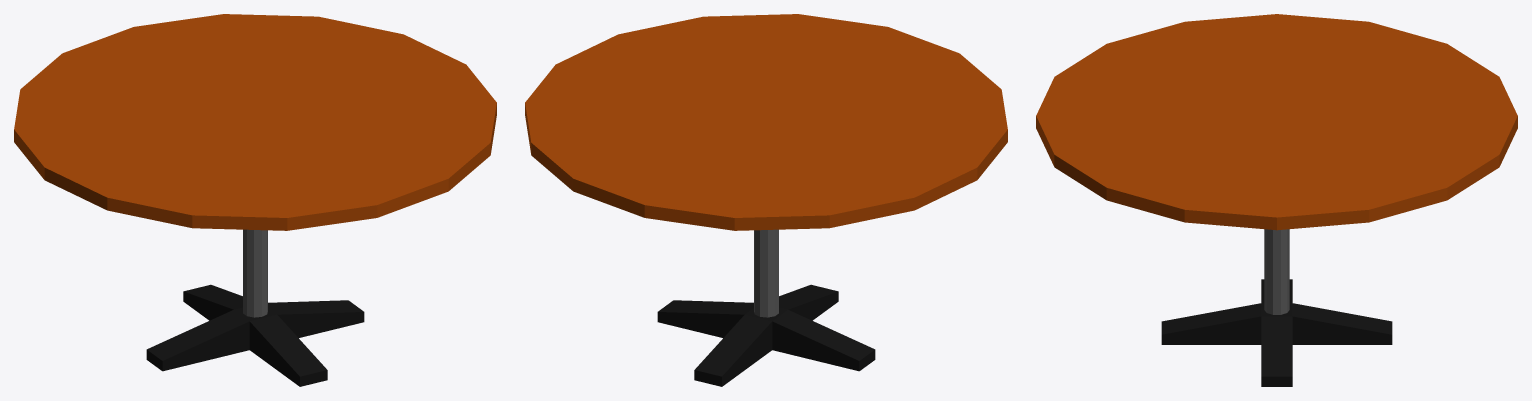
Rendered from cafe-desk.fbx.
The picture shows the model from 3 angles, left to right: view 1: azimuth 30°, elevation 25°; view 2: azimuth 150°, elevation 25°; view 3: azimuth 270°, elevation 25°; orthographic projection.
Parts seen in each view (by area): view 1: top, legs, support; view 2: top, legs, support; view 3: top, legs, support.
Boxes of the visible parts, x1,y1,x2,y2 form: top: (14, 14, 496, 230); legs: (146, 284, 364, 386); support: (243, 229, 267, 317); top: (525, 14, 1007, 230); legs: (657, 284, 875, 386); support: (754, 229, 778, 317); top: (1036, 14, 1517, 230); legs: (1161, 279, 1392, 386); support: (1264, 229, 1289, 314).
Size of the model in its own units: 968 by 493 by 968.
